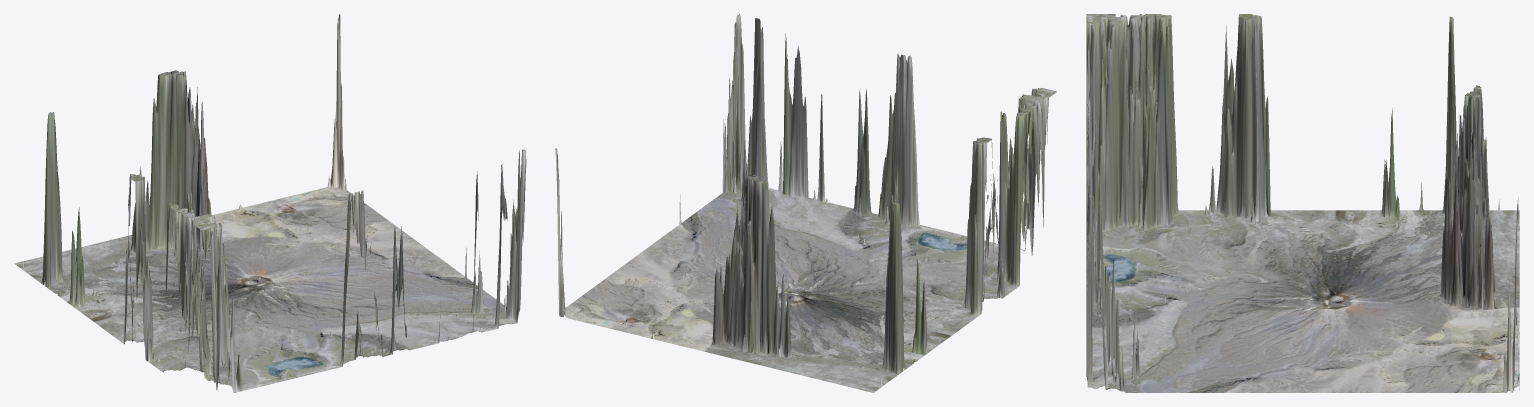
Rendered from dsm_58366d8a40_mesh.glb.
3 renders of one model, left to right at view 1: azimuth 30°, elevation 25°; view 2: azimuth 150°, elevation 25°; view 3: azimuth 270°, elevation 25°, orthographic. The views are drawn at different scales.
Parts seen in each view (by area): view 1: geometry_0; view 2: geometry_0; view 3: geometry_0.
Boxes of the visible parts, left/top/right/bottom form: geometry_0: left=14, top=14, right=526, bottom=392; geometry_0: left=555, top=14, right=1056, bottom=392; geometry_0: left=1086, top=14, right=1519, bottom=392.
Size of the model in its own units: 2 by 1 by 2.
